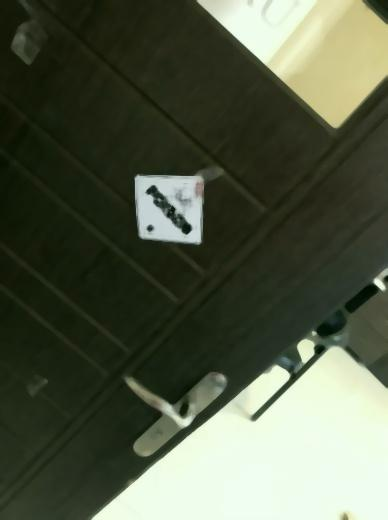poison: (134, 174, 206, 245)
